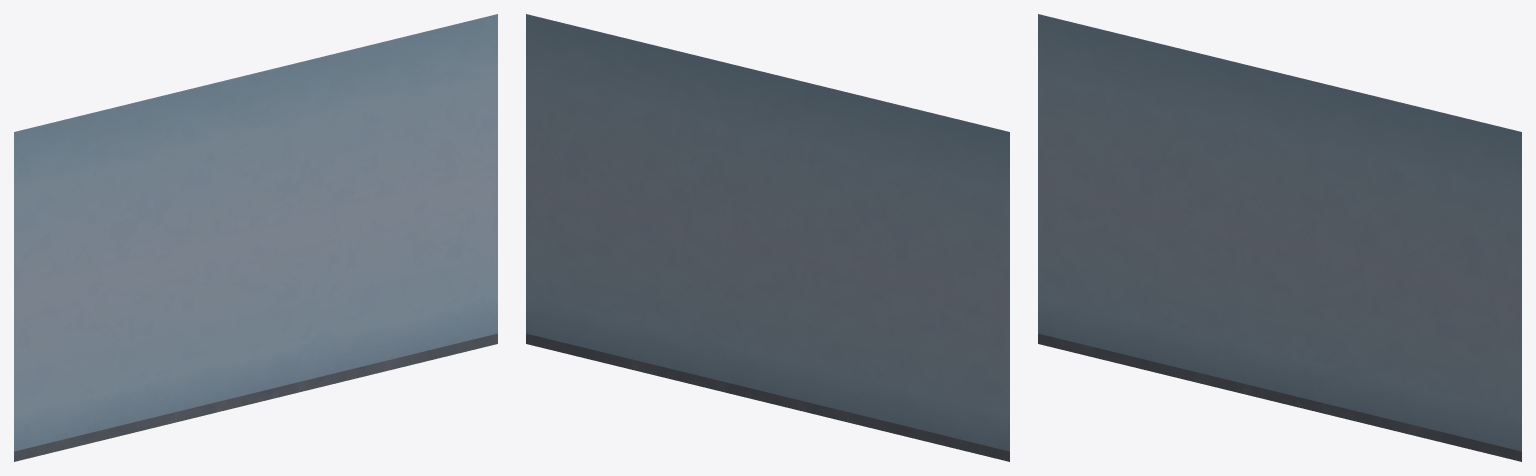
The model's file is ModularPatientBackWall.fbx.
3 views of the same model, side by side, from view 1: azimuth 30°, elevation 25°; view 2: azimuth 150°, elevation 25°; view 3: azimuth 330°, elevation 25° (orthographic).
Parts seen in each view (by area): view 1: pCube99; view 2: pCube99; view 3: pCube99.
Part boxes in pixels (x1,y1,x2,y2): pCube99: [14, 14, 497, 461]; pCube99: [526, 14, 1009, 461]; pCube99: [1038, 14, 1521, 461].
Bounding box in the file's own units: 460 × 300 × 4.55e-13.
Materials: 1 (1 with a texture image).
